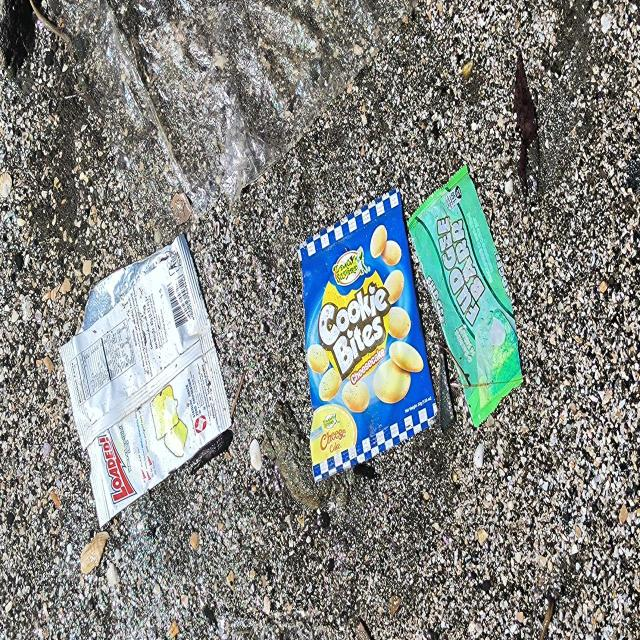plastic_waste: (56, 232, 233, 530), (295, 184, 439, 484), (406, 163, 524, 429)
